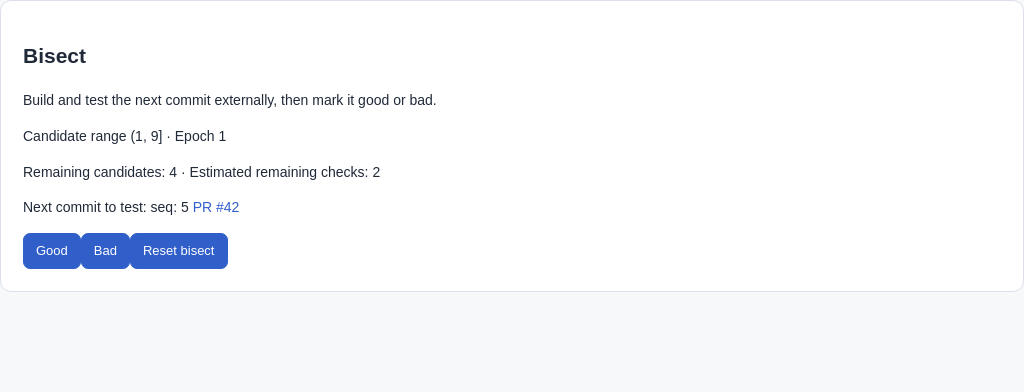
it: epoch conflict on mark immediately invalidates the displayed next point
Click the button "Good". click: (52, 251)
box: left=23, top=233, right=81, bottom=269
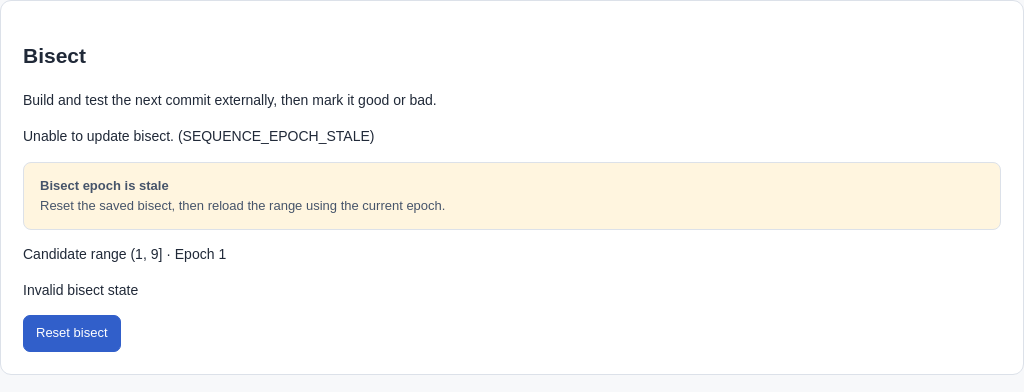
expect the button "Reset bisect" is enabled: met, box left=23, top=315, right=120, bottom=352
expect the text "Invalid bisect state" is shown: met, box left=23, top=282, right=138, bottom=298
expect the element with test id "bisect-next" is gone: met
